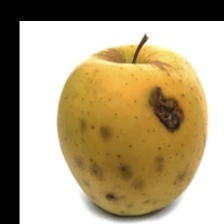apple: (4, 33, 189, 178)
